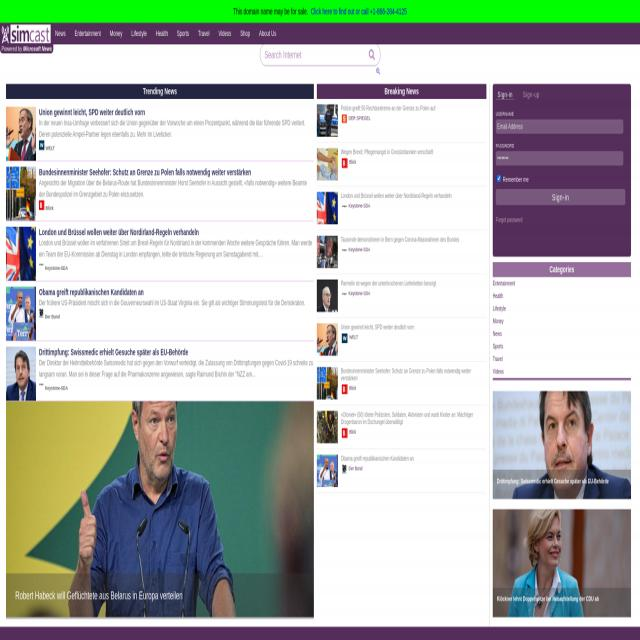button: (6, 400, 314, 617), (6, 286, 313, 341), (6, 346, 313, 401), (6, 106, 312, 160), (6, 227, 312, 281), (6, 167, 311, 220), (492, 390, 630, 499), (492, 509, 630, 618), (317, 279, 487, 317), (317, 323, 487, 361), (317, 192, 486, 230), (317, 236, 486, 274), (317, 366, 486, 404), (317, 454, 486, 492), (317, 104, 485, 142), (317, 147, 485, 185), (317, 411, 486, 448), (496, 188, 626, 206), (0, 24, 50, 44), (70, 25, 106, 43), (255, 25, 281, 43), (127, 25, 151, 43), (214, 24, 236, 42), (105, 25, 127, 43), (172, 25, 194, 43), (50, 25, 70, 43), (152, 25, 172, 43), (194, 25, 214, 43), (236, 25, 254, 43), (368, 46, 376, 62), (39, 140, 45, 150), (342, 158, 348, 168), (39, 200, 45, 210), (342, 334, 348, 344), (342, 384, 348, 394), (342, 428, 348, 438), (39, 308, 44, 318), (39, 380, 44, 390), (342, 464, 347, 474), (342, 115, 347, 124), (342, 202, 347, 211), (39, 260, 44, 269), (342, 246, 347, 254), (342, 290, 347, 298)
field: (259, 45, 380, 65), (496, 150, 624, 166), (496, 120, 623, 134), (496, 174, 531, 184)
